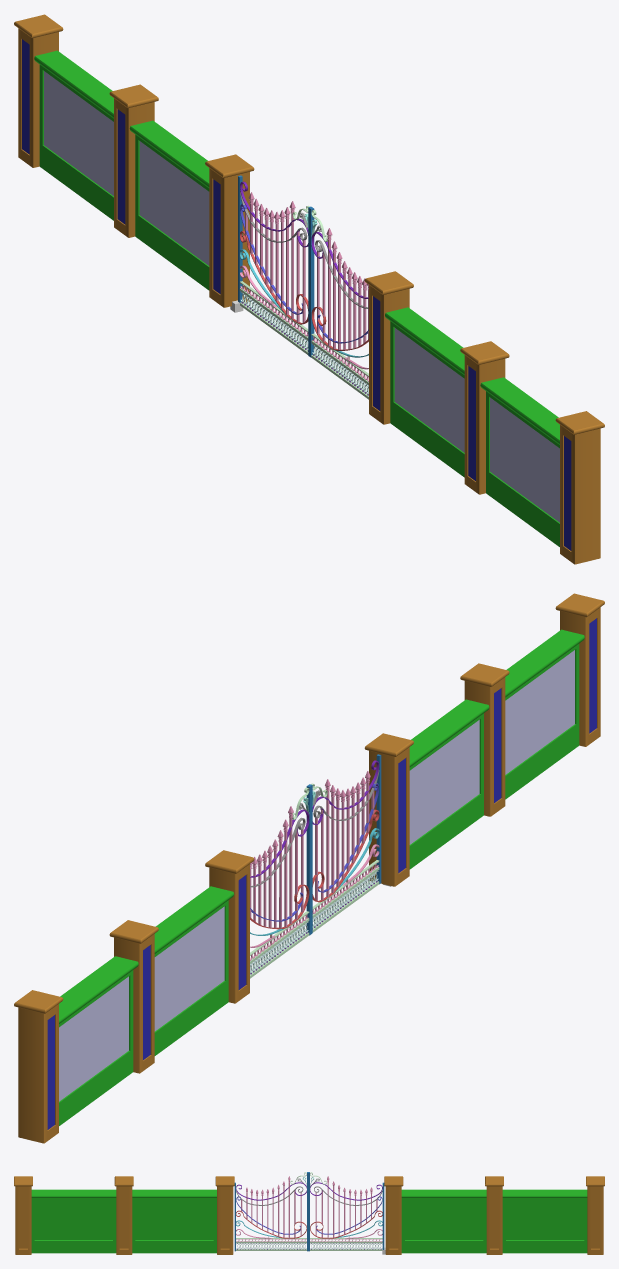
Rendered from porton.glb.
The picture shows the model from 3 angles, top to bottom: view 1: azimuth 30°, elevation 25°; view 2: azimuth 150°, elevation 25°; view 3: azimuth 270°, elevation 25°; orthographic projection. The views are drawn at different scales.
Parts seen in each view (by area): view 1: wall1, porton2, Porton; view 2: wall1, Porton, porton2; view 3: wall1, porton2, Porton.
Part boxes in pixels (x1=…): wall1: x1=14, y1=14, x2=604, y2=564; porton2: x1=238, y1=175, x2=312, y2=356; Porton: x1=309, y1=207, x2=368, y2=399; wall1: x1=14, y1=593, x2=604, y2=1143; Porton: x1=308, y1=754, x2=381, y2=933; porton2: x1=250, y1=785, x2=311, y2=978; wall1: x1=14, y1=1176, x2=604, y2=1254; porton2: x1=308, y1=1172, x2=384, y2=1251; Porton: x1=234, y1=1172, x2=308, y2=1251.
Size of what is drawn, in the model's own units: 7.51 by 35.49 by 233.
